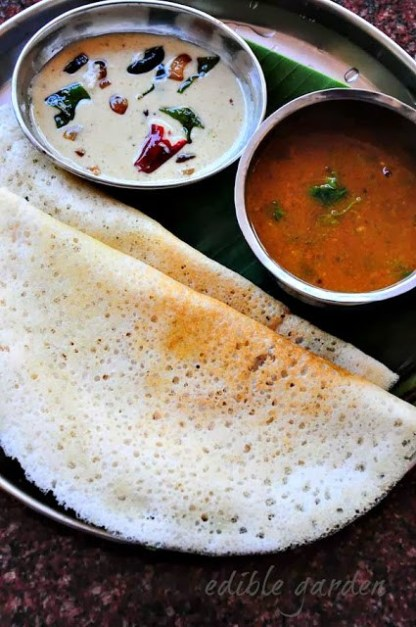dosa: (2, 128, 416, 561)
